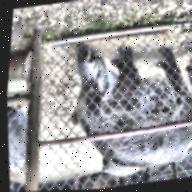boar: (49, 33, 192, 191)
